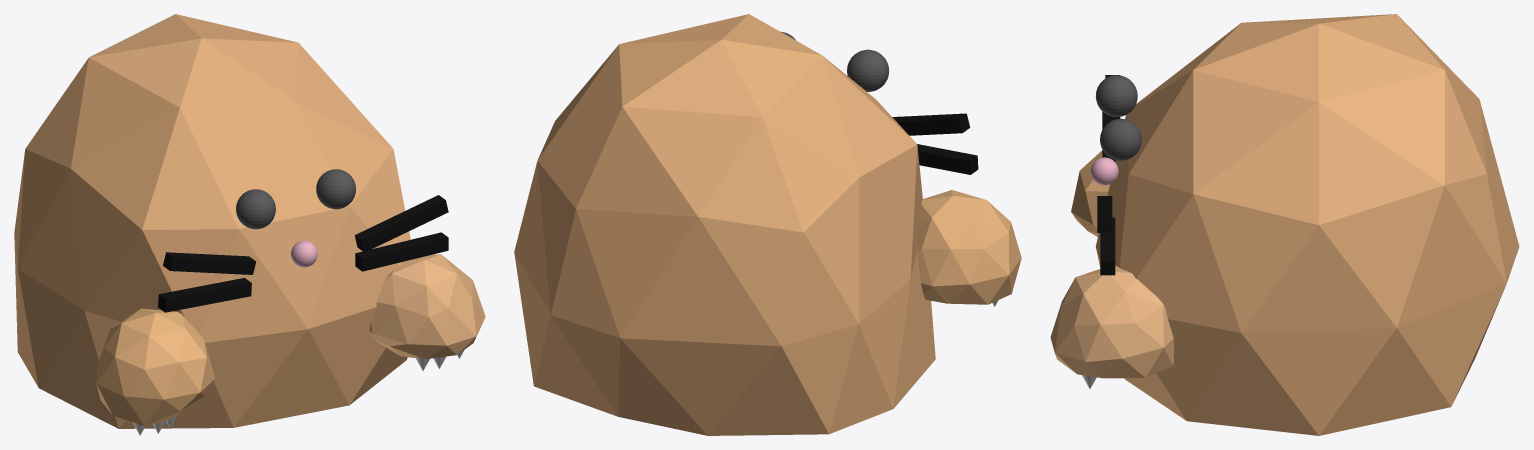
File: mole2.fbx
3 renders of one model, left to right at view 1: azimuth 30°, elevation 25°; view 2: azimuth 150°, elevation 25°; view 3: azimuth 270°, elevation 25°, orthographic. The views are drawn at different scales.
Visible parts, largest first — view 1: Icosphere, Icosphere.003, Icosphere.002, Cube.001, Cube, Cube.003, Cube.002, Sphere.001, Sphere, Sphere.002; view 2: Icosphere, Icosphere.003, Cube.002, Sphere, Cube.003; view 3: Icosphere, Icosphere.002, Icosphere.003, Sphere.001, Sphere, Cube, Sphere.002, Cube.001.
Part boxes in pixels (x1=…): Icosphere: x1=14, y1=14, x2=410, y2=428; Icosphere.003: x1=96, y1=308, x2=215, y2=426; Icosphere.002: x1=369, y1=254, x2=485, y2=359; Cube.001: x1=354, y1=195, x2=448, y2=252; Cube: x1=355, y1=232, x2=448, y2=271; Cube.003: x1=158, y1=278, x2=251, y2=312; Cube.002: x1=163, y1=252, x2=256, y2=274; Sphere.001: x1=316, y1=169, x2=355, y2=209; Sphere: x1=236, y1=189, x2=275, y2=229; Sphere.002: x1=291, y1=240, x2=317, y2=267; Icosphere: x1=514, y1=14, x2=935, y2=435; Icosphere.003: x1=917, y1=190, x2=1021, y2=304; Cube.002: x1=892, y1=113, x2=970, y2=135; Sphere: x1=847, y1=49, x2=889, y2=91; Cube.003: x1=917, y1=144, x2=978, y2=174; Icosphere: x1=1095, y1=14, x2=1519, y2=435; Icosphere.002: x1=1050, y1=266, x2=1173, y2=378; Icosphere.003: x1=1071, y1=150, x2=1109, y2=236; Sphere.001: x1=1100, y1=118, x2=1141, y2=160; Sphere: x1=1095, y1=75, x2=1137, y2=116; Cube: x1=1100, y1=217, x2=1115, y2=275; Sphere.002: x1=1090, y1=157, x2=1118, y2=185; Cube.001: x1=1097, y1=196, x2=1112, y2=232.
Size of the model in its own units: 174 by 144 by 187.
